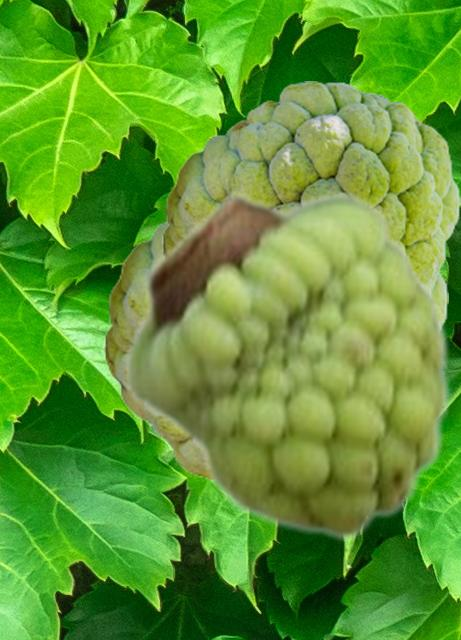atis: (123, 188, 452, 543), (104, 217, 447, 483), (162, 81, 459, 289)
